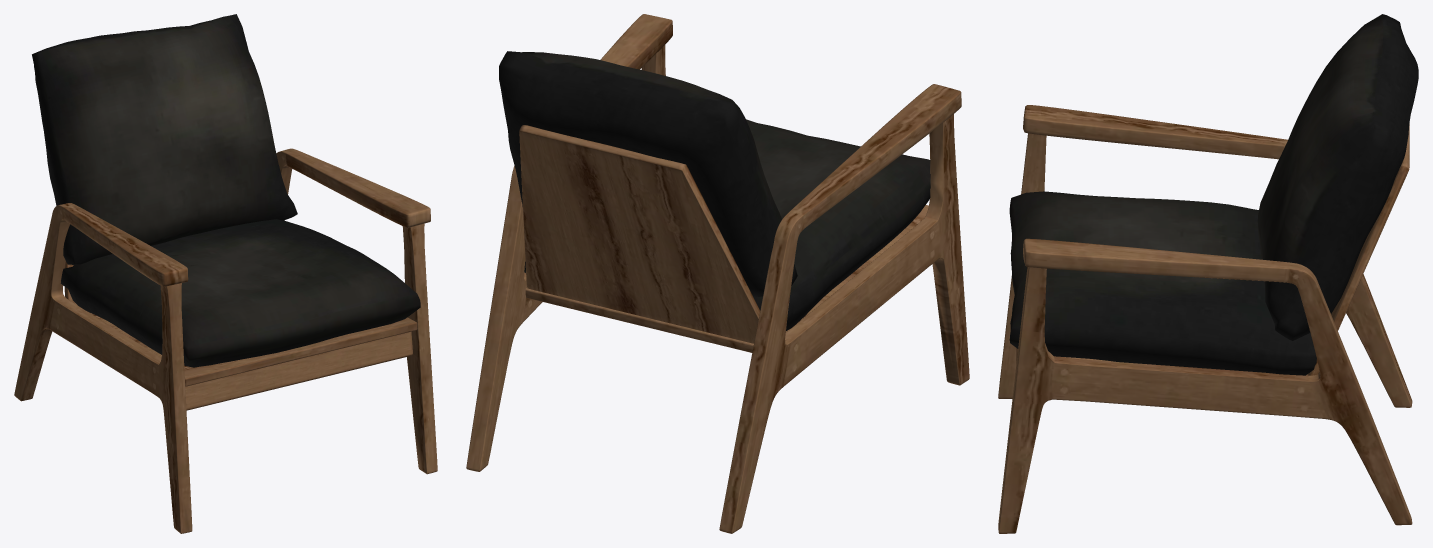
File: modern_arm_chair_01.glb
The picture shows the model from 3 angles, left to right: view 1: azimuth 30°, elevation 25°; view 2: azimuth 150°, elevation 25°; view 3: azimuth 270°, elevation 25°; orthographic projection. The views are drawn at different scales.
Parts seen in each view (by area): view 1: modern_arm_chair_01; view 2: modern_arm_chair_01; view 3: modern_arm_chair_01.
Boxes of the visible parts, <box> form: modern_arm_chair_01: <box>14,14,437,533</box>; modern_arm_chair_01: <box>466,14,969,533</box>; modern_arm_chair_01: <box>998,14,1418,533</box>.
Size of the model in its own units: 0.8203 by 1.02 by 0.9865.
2 materials, 2 textured.
